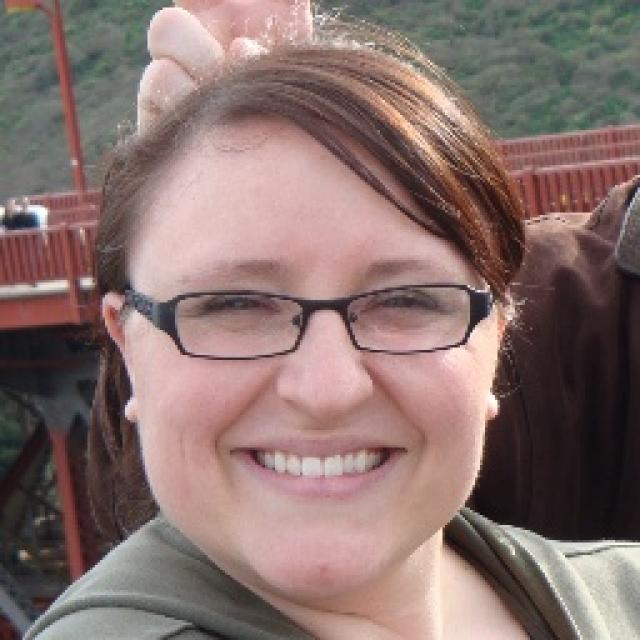earlobe: (482, 394, 502, 421), (120, 400, 140, 421)
eye: (204, 290, 275, 316), (362, 292, 438, 314)
nose: (280, 392, 365, 431)
wholeear: (102, 292, 140, 423), (484, 293, 514, 419)
